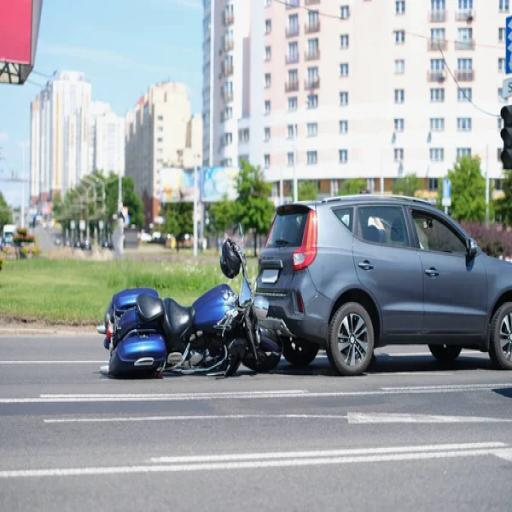小汽车撞自行车: (100, 188, 512, 381)
